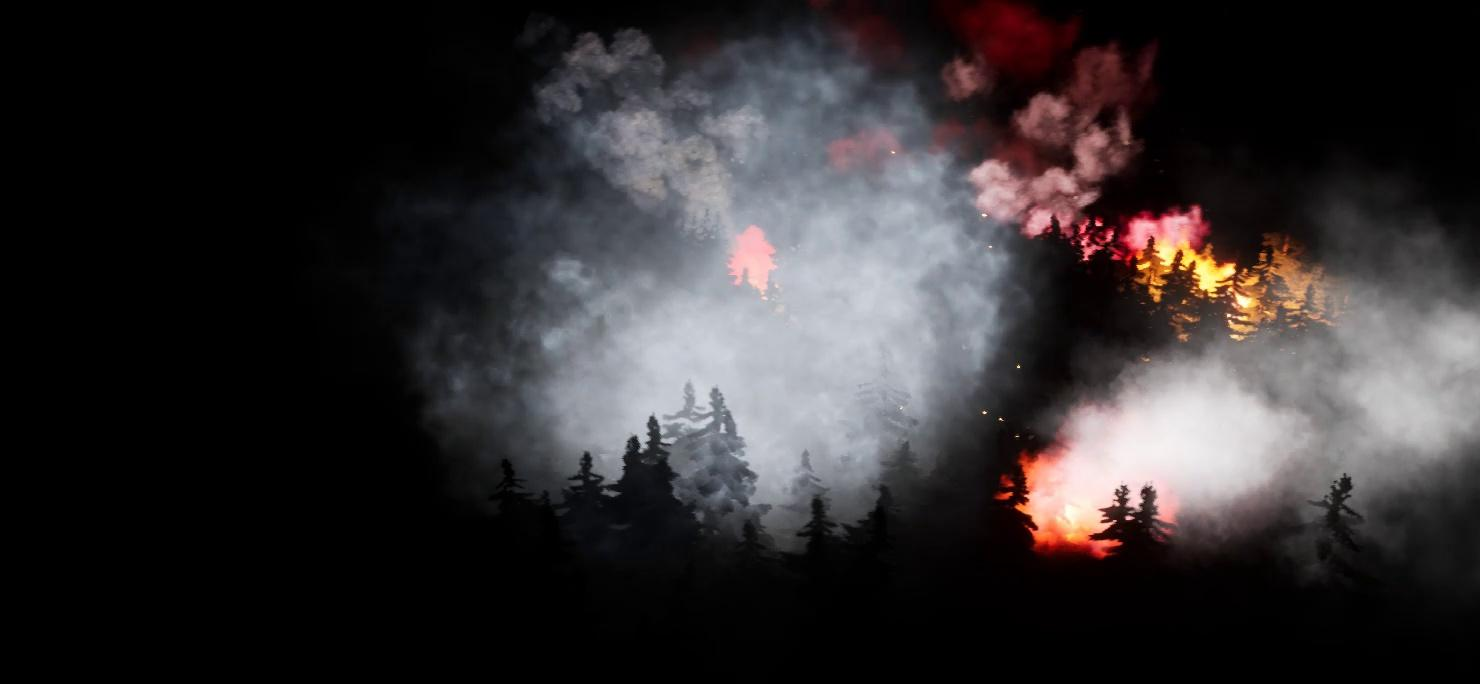fire: (1134, 229, 1282, 327)
smoke: (413, 0, 1479, 601)
